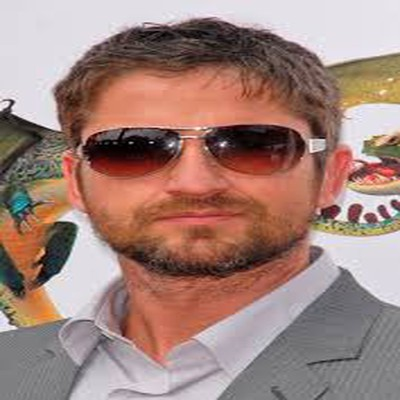eywear: (45, 81, 331, 195)
